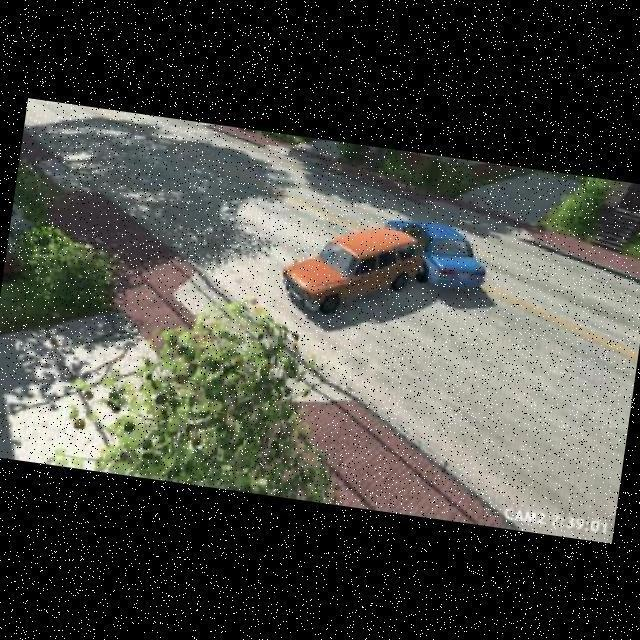accident: (270, 196, 495, 328)
